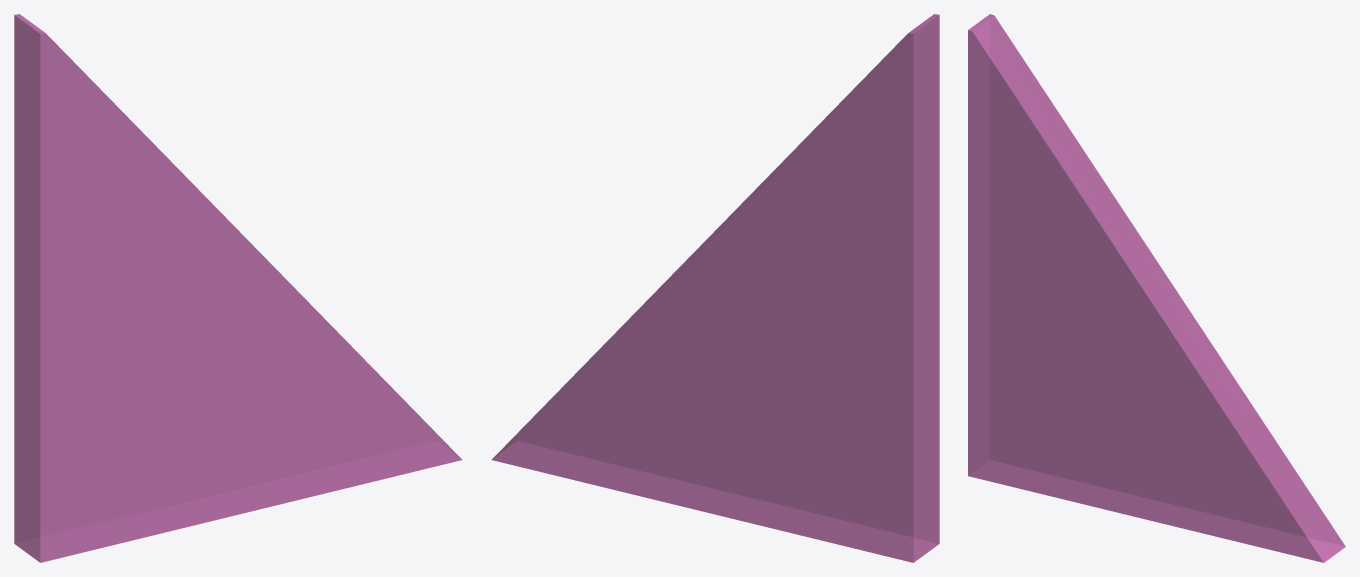
File: SM_Bld_Base_Wall_Angle_01_Collision.glb
3 views of the same model, side by side, from view 1: azimuth 30°, elevation 25°; view 2: azimuth 150°, elevation 25°; view 3: azimuth 330°, elevation 25° (orthographic). The views are drawn at different scales.
Visible parts, largest first — view 1: SM_Bld_Base_Wall_Angle_01_Collision; view 2: SM_Bld_Base_Wall_Angle_01_Collision; view 3: SM_Bld_Base_Wall_Angle_01_Collision.
Part boxes in pixels (x1=…): SM_Bld_Base_Wall_Angle_01_Collision: x1=14, y1=14, x2=462, y2=562; SM_Bld_Base_Wall_Angle_01_Collision: x1=491, y1=14, x2=939, y2=562; SM_Bld_Base_Wall_Angle_01_Collision: x1=968, y1=14, x2=1345, y2=562.
Bounding box in the file's own units: 2.55 × 3.05 × 0.2731.
